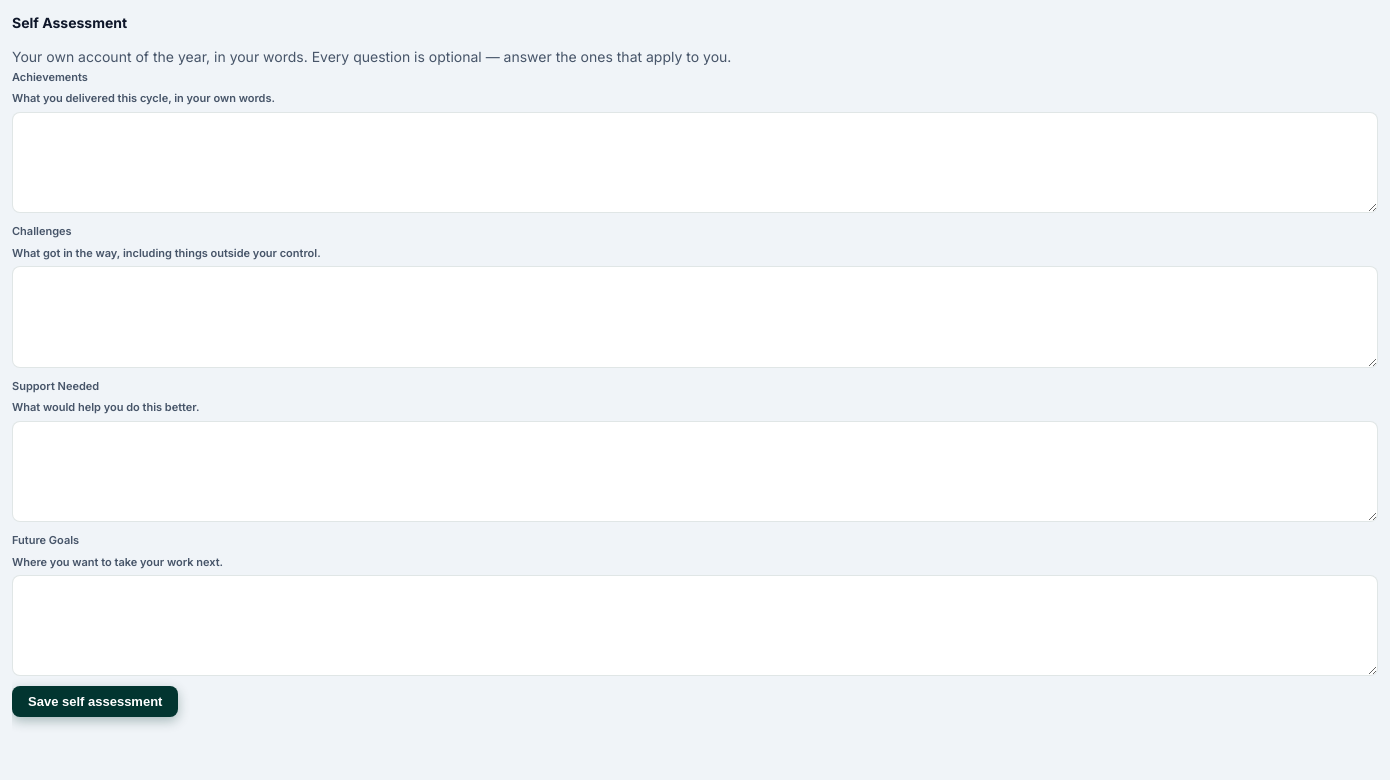
Scenario: the sectioned self assessment › separates saving from submitting, and says so
In the text box labelled "Achievements": (695, 163) [12,112,1378,213], type "Draft."
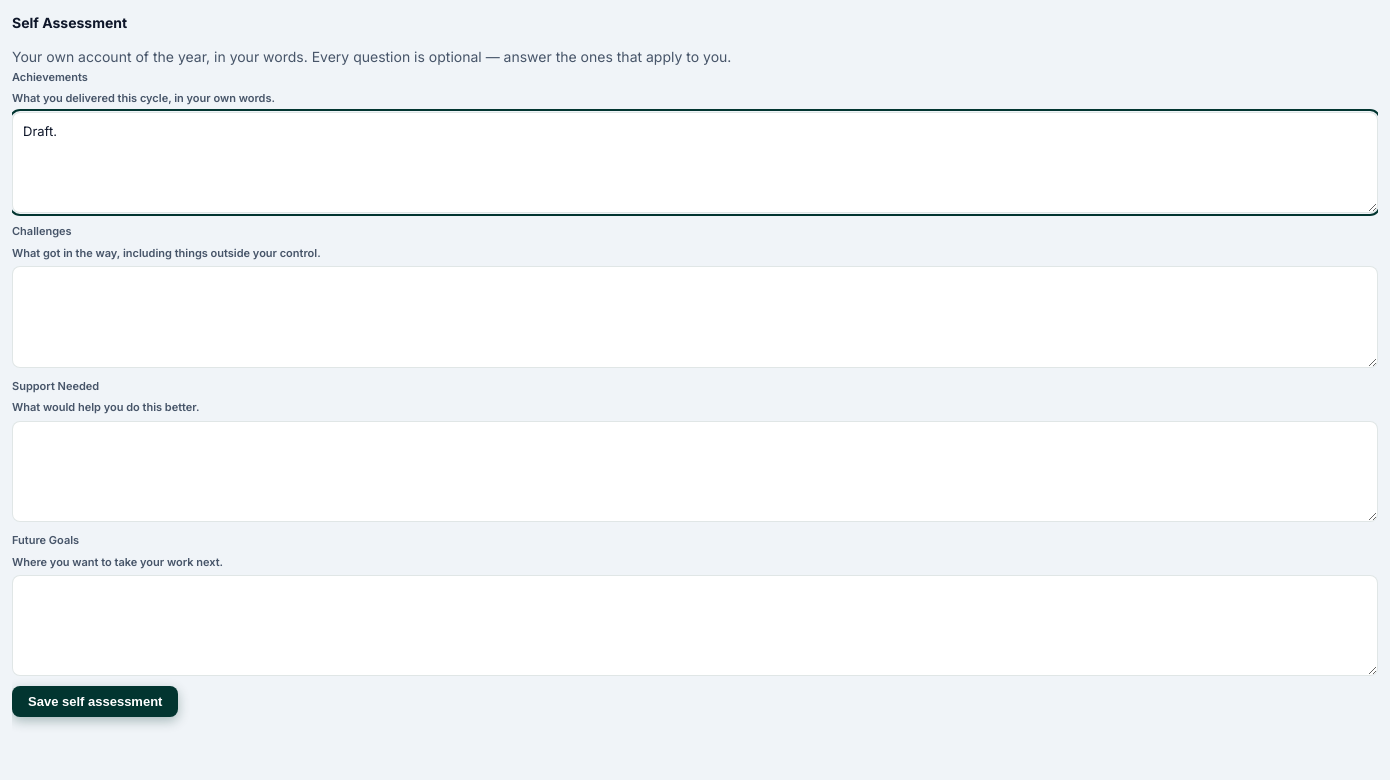
Click the button "Save self assessment": (95, 702) [12,686,178,717]
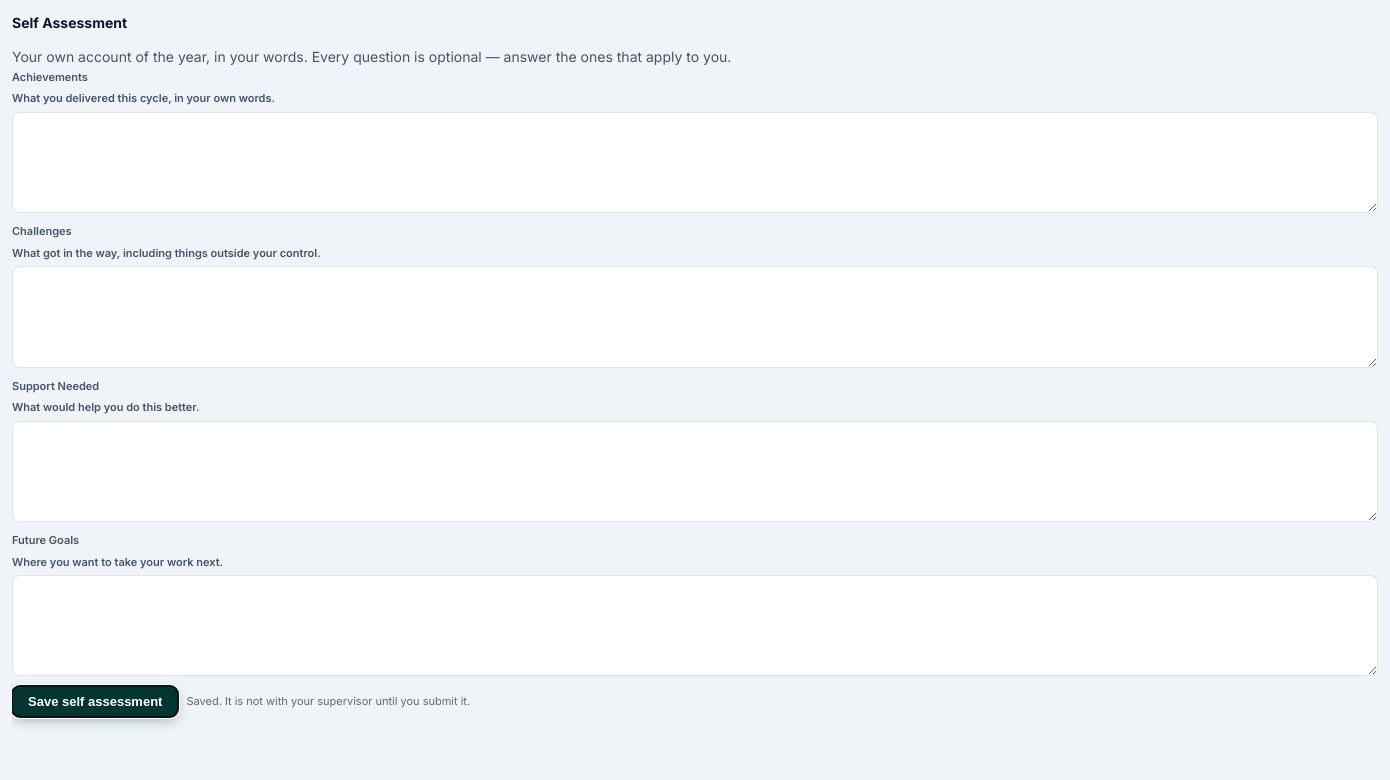
Result: the message shows "not with your supervisor until you submit it" at [186,694,470,708]
